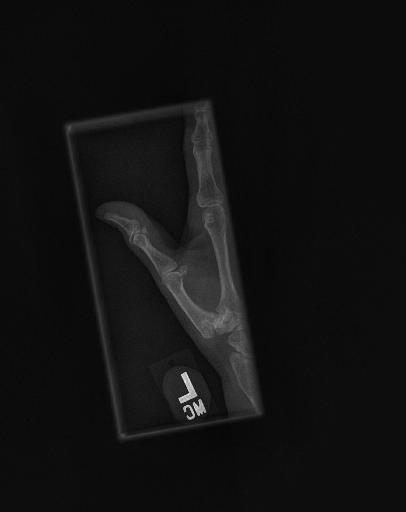fingers positive: (123, 210, 155, 248)
